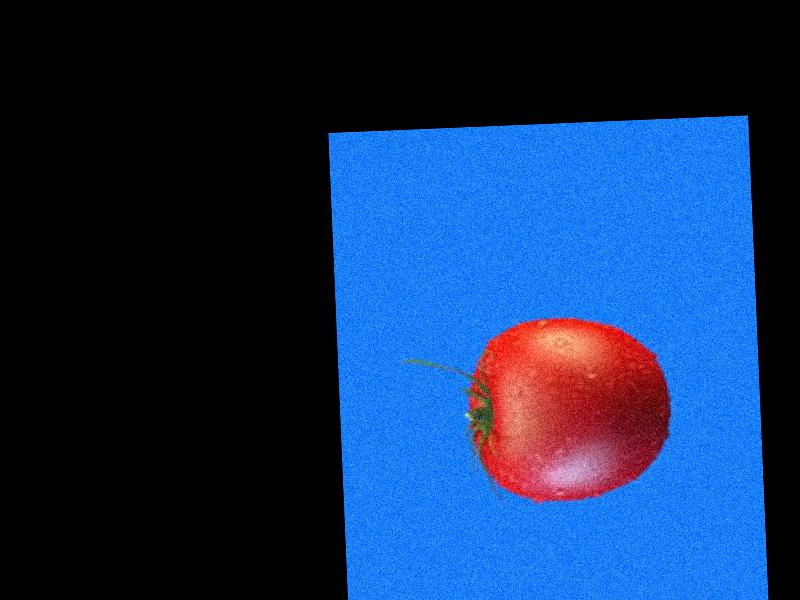Tomato: (464, 313, 674, 506)
